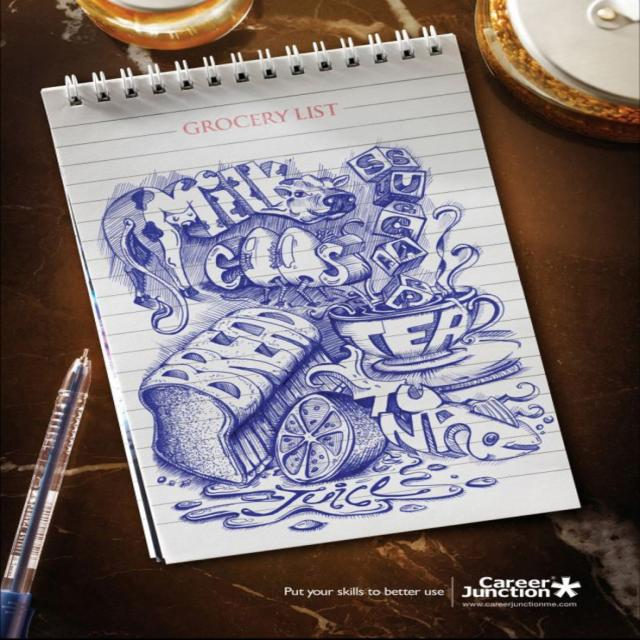pen: (0, 346, 93, 638)
